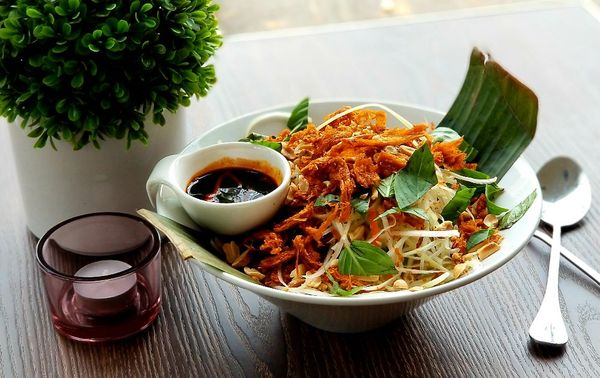pizza: (33, 211, 163, 345)
salad: (529, 156, 595, 353), (528, 183, 569, 352)
sushi: (150, 92, 544, 333), (147, 140, 291, 236)
